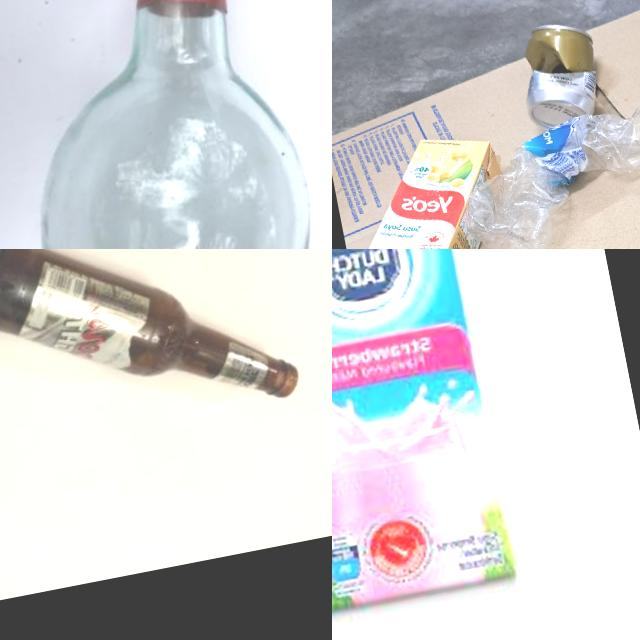caixinha: (332, 249, 523, 627), (332, 126, 525, 249)
garrafa de vidro: (0, 0, 332, 249), (0, 249, 301, 452)
garrafa plástica: (457, 99, 640, 249)
lata: (514, 15, 610, 133)
papelão: (332, 0, 640, 249)
